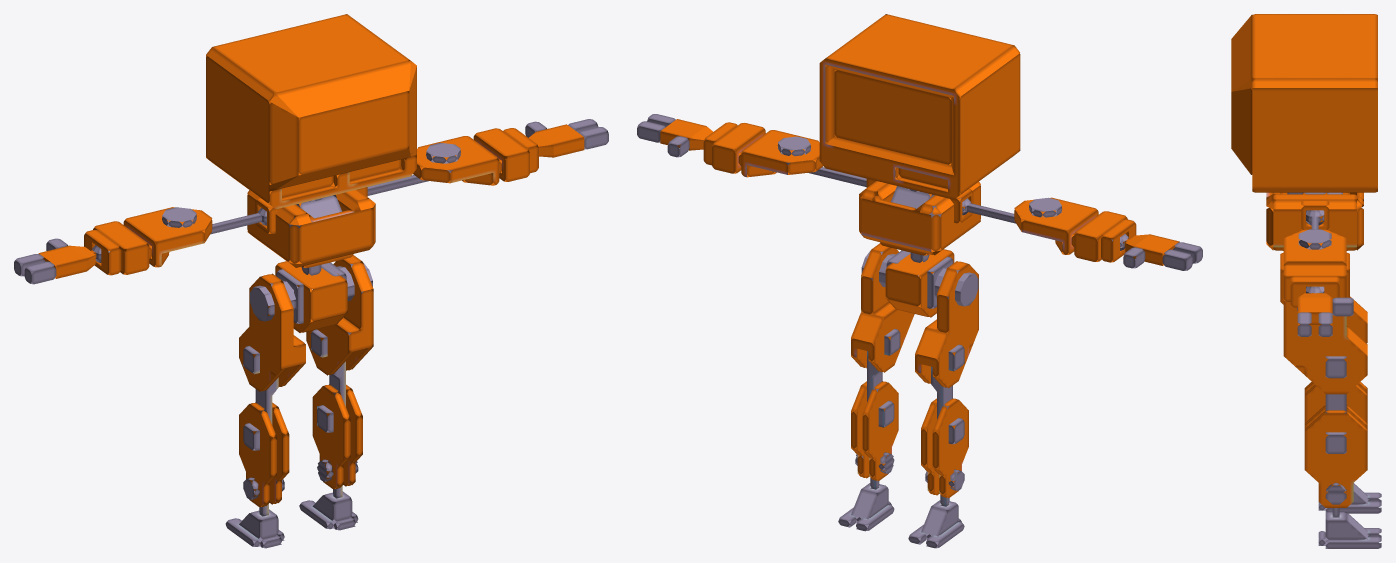
The model's file is robotv2.obj.
3 renders of one model, left to right at view 1: azimuth 30°, elevation 25°; view 2: azimuth 150°, elevation 25°; view 3: azimuth 270°, elevation 25°, orthographic. The views are drawn at different scales.
Parts seen in each view (by area): view 1: head, leg_upper.L, leg_lower.L, chest, arm_lower.R, arm_lower.L, foot.L, abdomen, leg_midle.L, hand.R, hand.L, hip_joint.L (+2 smaller); view 2: head, leg_upper.L, leg_lower.L, chest, arm_lower.R, foot.L, arm_lower.L, abdomen, leg_midle.L, hip_joint.L, hand.R, hand.L (+2 smaller); view 3: head, leg_lower.L, leg_upper.L, chest, foot.L, arm_lower.R, leg_midle.L, wrist.R, hand.R, elbow_joint.R, shoulder.R, thumb.R (+4 smaller).
Boxes of the visible parts, left/top/right/bottom form: head: left=206, top=14, right=416, bottom=209; leg_upper.L: left=239, top=255, right=373, bottom=391; leg_lower.L: left=239, top=384, right=362, bottom=507; chest: left=247, top=189, right=375, bottom=267; arm_lower.R: left=413, top=128, right=529, bottom=185; arm_lower.L: left=93, top=207, right=212, bottom=274; foot.L: left=225, top=459, right=358, bottom=548; abdomen: left=275, top=261, right=347, bottom=332; leg_midle.L: left=243, top=329, right=351, bottom=450; hand.R: left=529, top=124, right=584, bottom=157; hand.L: left=38, top=245, right=96, bottom=278; hip_joint.L: left=250, top=263, right=372, bottom=321; head: left=819, top=14, right=1020, bottom=199; leg_upper.L: left=851, top=243, right=978, bottom=388; leg_lower.L: left=851, top=381, right=968, bottom=498; chest: left=859, top=181, right=980, bottom=255; arm_lower.R: left=712, top=123, right=823, bottom=177; foot.L: left=838, top=452, right=964, bottom=548; arm_lower.L: left=1014, top=197, right=1127, bottom=261; abdomen: left=885, top=249, right=954, bottom=317; leg_midle.L: left=867, top=329, right=964, bottom=444; hip_joint.L: left=861, top=251, right=978, bottom=306; hand.R: left=660, top=119, right=712, bottom=150; hand.L: left=1123, top=234, right=1179, bottom=265; head: left=1231, top=14, right=1377, bottom=192; leg_lower.L: left=1304, top=382, right=1367, bottom=507; leg_upper.L: left=1283, top=296, right=1367, bottom=394; chest: left=1266, top=192, right=1363, bottom=250; foot.L: left=1318, top=483, right=1381, bottom=548; arm_lower.R: left=1283, top=229, right=1346, bottom=301; leg_midle.L: left=1325, top=356, right=1346, bottom=453; wrist.R: left=1290, top=276, right=1339, bottom=307; hand.R: left=1297, top=293, right=1332, bottom=324; elbow_joint.R: left=1298, top=229, right=1331, bottom=249; shoulder.R: left=1301, top=200, right=1329, bottom=230; thumb.R: left=1332, top=297, right=1353, bottom=316.
Bounding box in the file's own units: 5.88 × 4.72 × 1.34.
